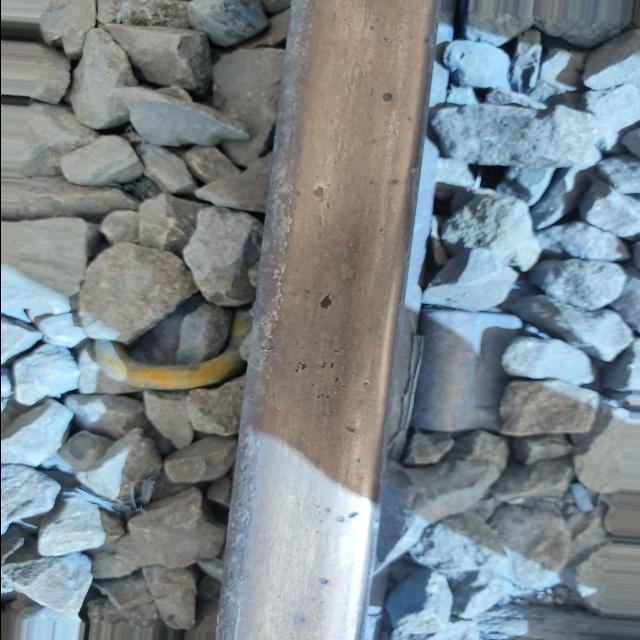squats_high: (293, 348, 345, 384), (322, 507, 362, 525), (313, 295, 335, 310), (368, 179, 400, 188), (315, 576, 332, 589), (377, 93, 396, 104), (310, 186, 324, 200), (341, 423, 357, 435), (293, 615, 307, 621)
